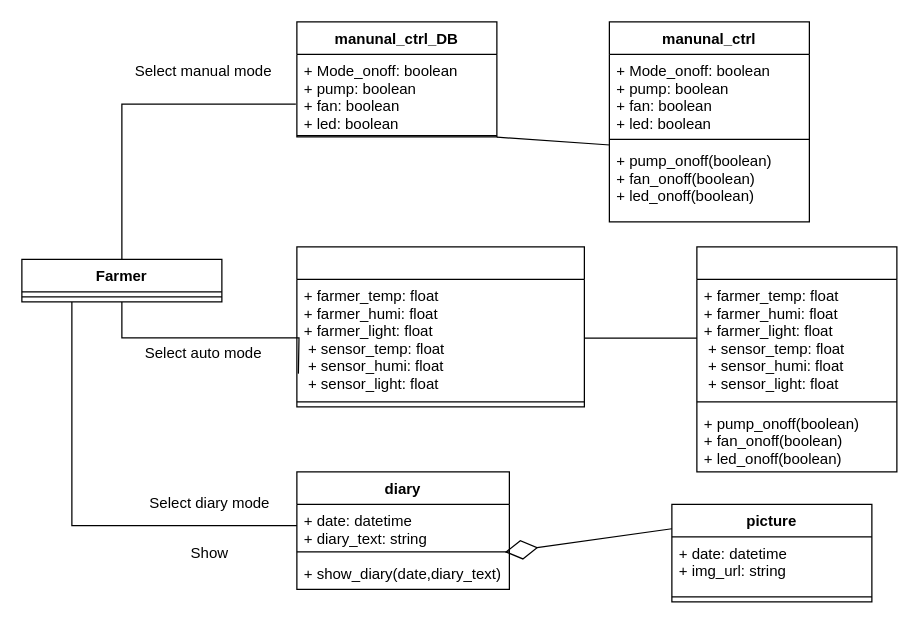
This 919x624 diagram has some shape labels left out. The shapes that lost their labels are listed below. From the top down, each one's box as (x1, y1, x2, y2) in pixels, then its label:
(296, 246, 584, 407): auto_ctrl_DB
(696, 246, 897, 472): auto_ctrl
